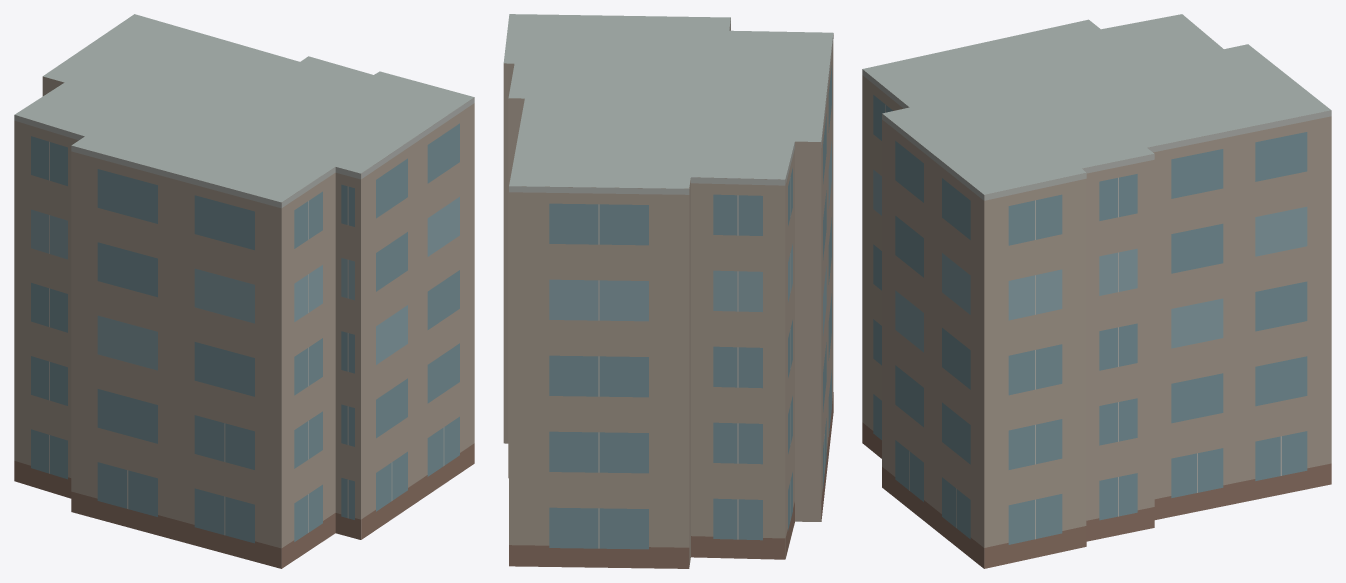
The model's file is survey-upis-32515128.glb.
3 views of the same model, side by side, from view 1: azimuth 30°, elevation 25°; view 2: azimuth 150°, elevation 25°; view 3: azimuth 270°, elevation 25° (orthographic). The views are drawn at different scales.
Parts seen in each view (by area): view 1: survey-upis-32515128.tmp; view 2: survey-upis-32515128.tmp; view 3: survey-upis-32515128.tmp.
Part boxes in pixels (x1,y1,x2,y2): survey-upis-32515128.tmp: (14,14,474,568); survey-upis-32515128.tmp: (503,14,833,568); survey-upis-32515128.tmp: (862,14,1331,568).
Bounding box in the file's own units: 15.82 × 15.25 × 17.35.
